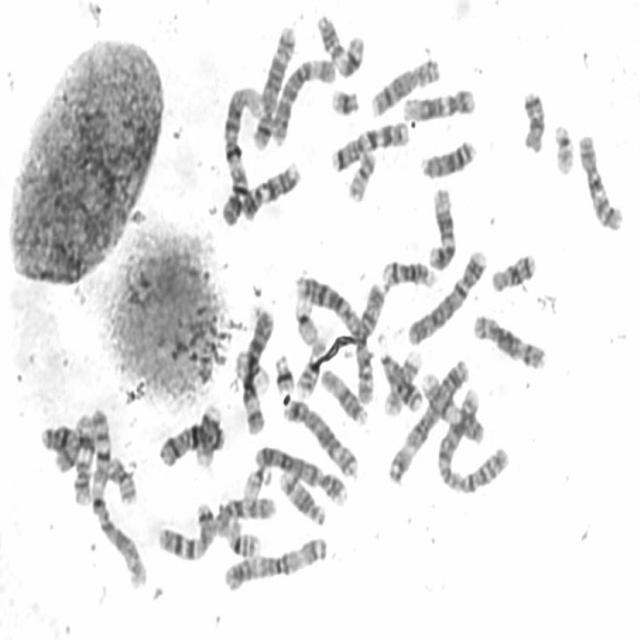A1: (88, 406, 150, 588), (220, 83, 264, 230)
A2: (292, 272, 379, 406), (433, 386, 511, 495)
A3: (384, 354, 470, 484), (221, 532, 329, 594)
B4: (405, 246, 488, 347), (252, 442, 348, 506)
B5: (282, 396, 359, 480), (251, 20, 296, 152)
C10: (575, 129, 625, 234), (212, 493, 276, 538)
C11: (314, 10, 365, 78), (73, 414, 94, 506)
C12: (400, 84, 478, 124), (425, 184, 457, 271)
C6: (270, 54, 337, 147), (239, 303, 276, 436)
C7: (328, 118, 410, 173), (155, 500, 216, 562)
C8: (367, 53, 442, 119), (471, 311, 546, 372)
C9: (418, 373, 486, 447), (239, 158, 303, 222)
D13: (418, 136, 477, 182), (378, 353, 422, 412)
D14: (276, 467, 327, 528), (378, 255, 438, 290)
D15: (319, 365, 369, 425), (356, 280, 387, 347)
E16: (294, 334, 328, 398), (224, 516, 262, 560)
E17: (378, 348, 423, 416), (192, 401, 224, 468)
E18: (489, 249, 537, 294), (519, 86, 547, 155)
F19: (232, 347, 271, 394), (292, 294, 320, 348)
F20: (344, 148, 378, 204), (106, 455, 138, 505)
G21: (329, 84, 361, 118), (272, 351, 296, 393)
G22: (550, 119, 577, 177), (240, 462, 273, 500)
X: (156, 419, 226, 468), (42, 422, 79, 475)
